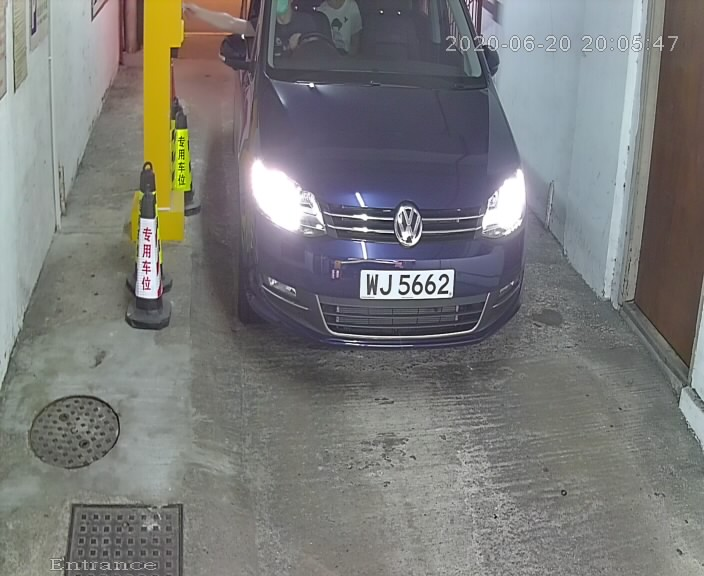privatecar: (214, 1, 540, 379)
